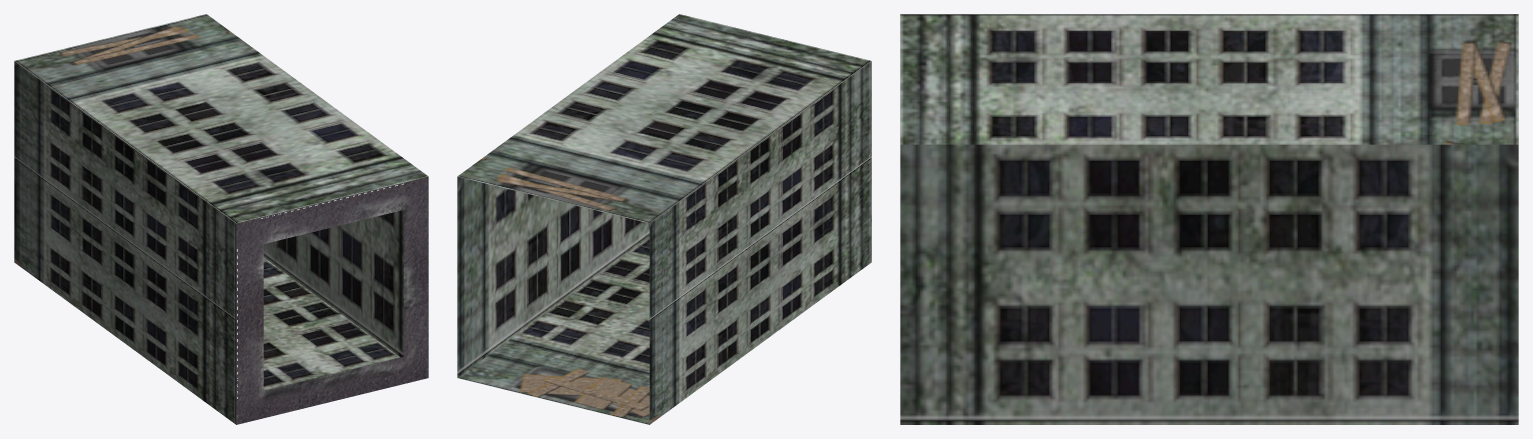
File: building4x8x4a_wtf.obj
The picture shows the model from 3 angles, left to right: view 1: azimuth 30°, elevation 25°; view 2: azimuth 150°, elevation 25°; view 3: azimuth 270°, elevation 25°; orthographic projection. The views are drawn at different scales.
Parts seen in each view (by area): view 1: group7, group6, group4, group5, group3; view 2: group7, group6, group5, group3; view 3: group5, group6.
Boxes of the visible parts, <box> form: group7: <box>14,61,236,424</box>; group6: <box>14,14,428,223</box>; group4: <box>236,176,428,424</box>; group5: <box>263,210,403,357</box>; group3: <box>263,257,400,390</box>; group7: <box>649,61,871,424</box>; group6: <box>457,14,871,223</box>; group5: <box>457,176,649,377</box>; group3: <box>457,237,649,424</box>; group5: <box>900,144,1518,424</box>; group6: <box>900,14,1518,144</box>.
Bounding box in the file's own units: 330 × 330 × 660.
